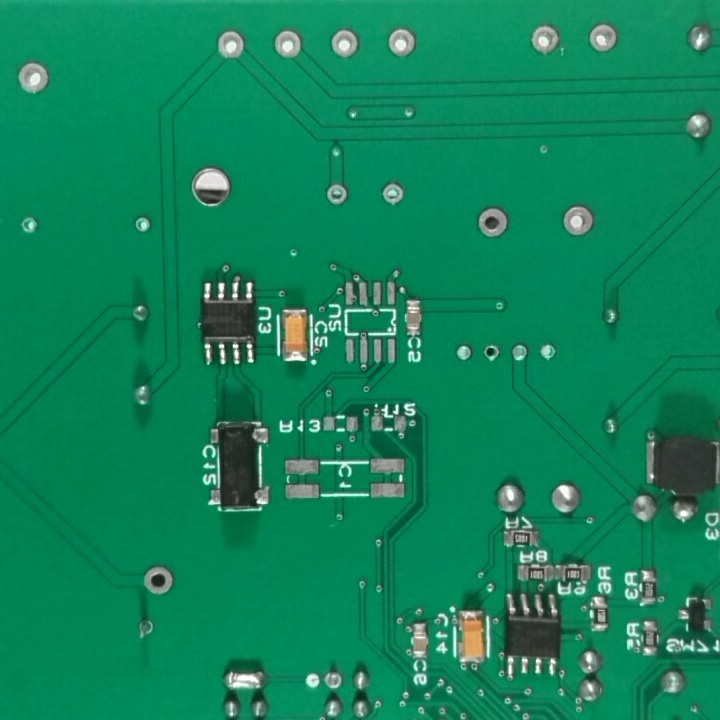F: (13, 59, 56, 96), (526, 21, 564, 60), (471, 203, 511, 240), (327, 23, 364, 63), (586, 20, 623, 59), (213, 28, 253, 63), (384, 23, 419, 61), (561, 206, 598, 240), (140, 566, 178, 599), (272, 26, 307, 60), (376, 180, 409, 206), (322, 182, 351, 206), (536, 340, 560, 364), (16, 215, 41, 238), (134, 618, 157, 643), (322, 669, 344, 692), (133, 214, 156, 235), (509, 342, 529, 365), (453, 341, 473, 363), (484, 342, 501, 363)
P: (218, 668, 270, 695)
